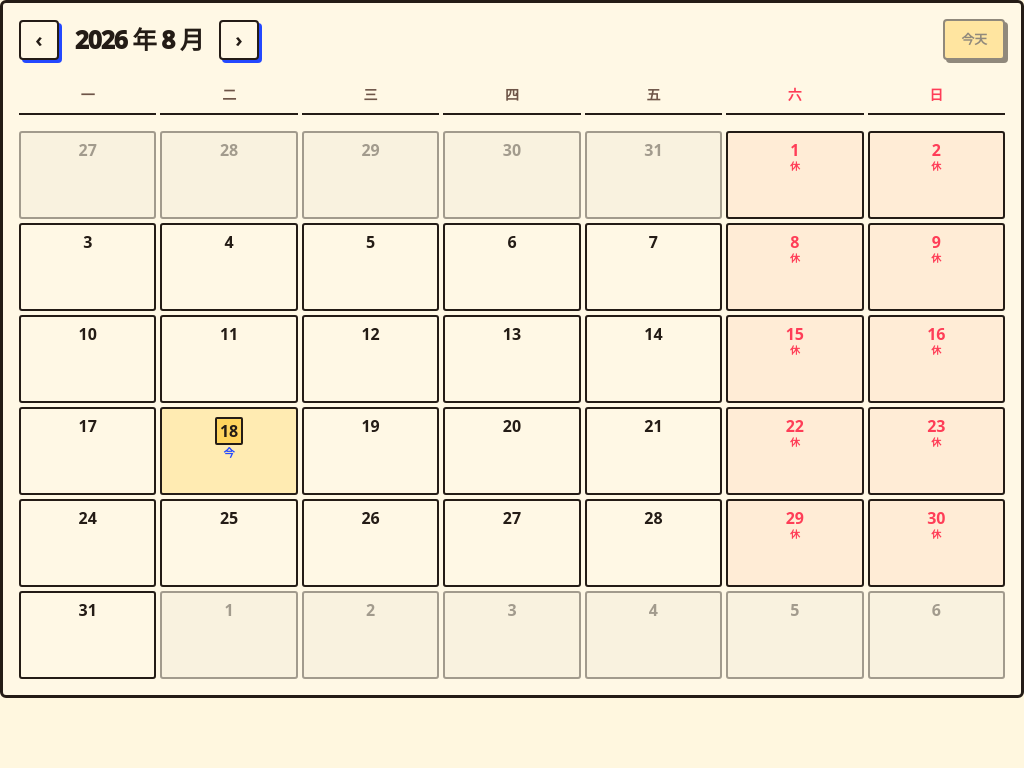
Scenario: TaskCalendar › returns to today's month
The image size is (1024, 768).
Click the button named "下一个月": (239, 40) [219,20,259,60]
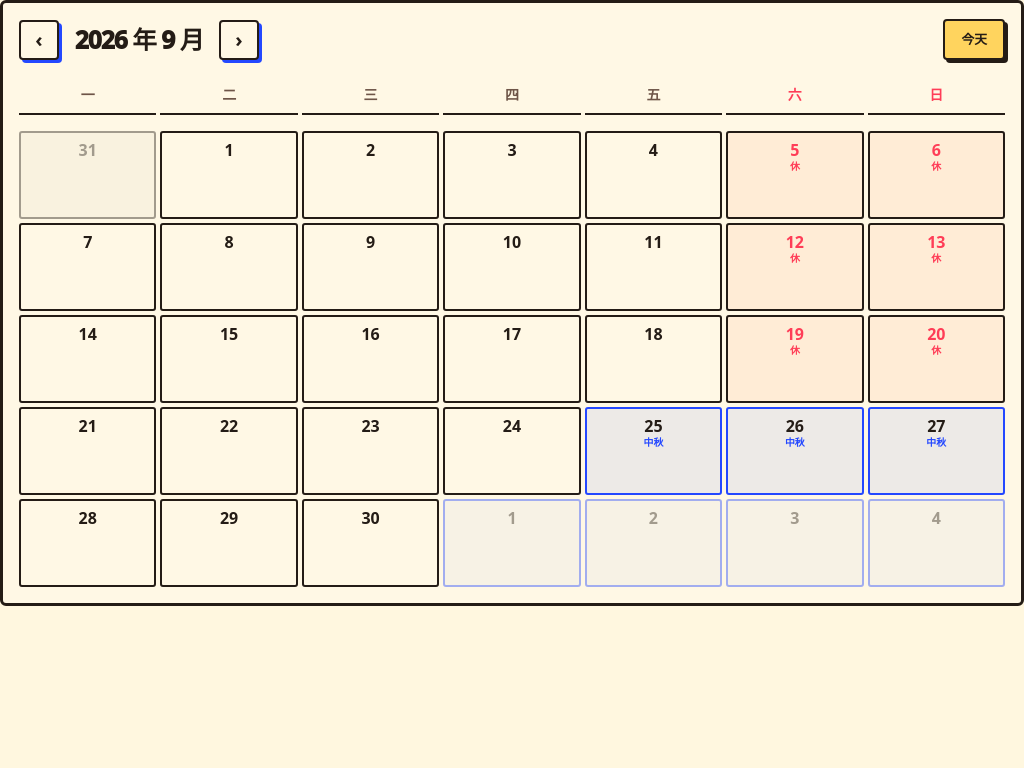
Click the button named "下一个月": (239, 40) [219,20,259,60]
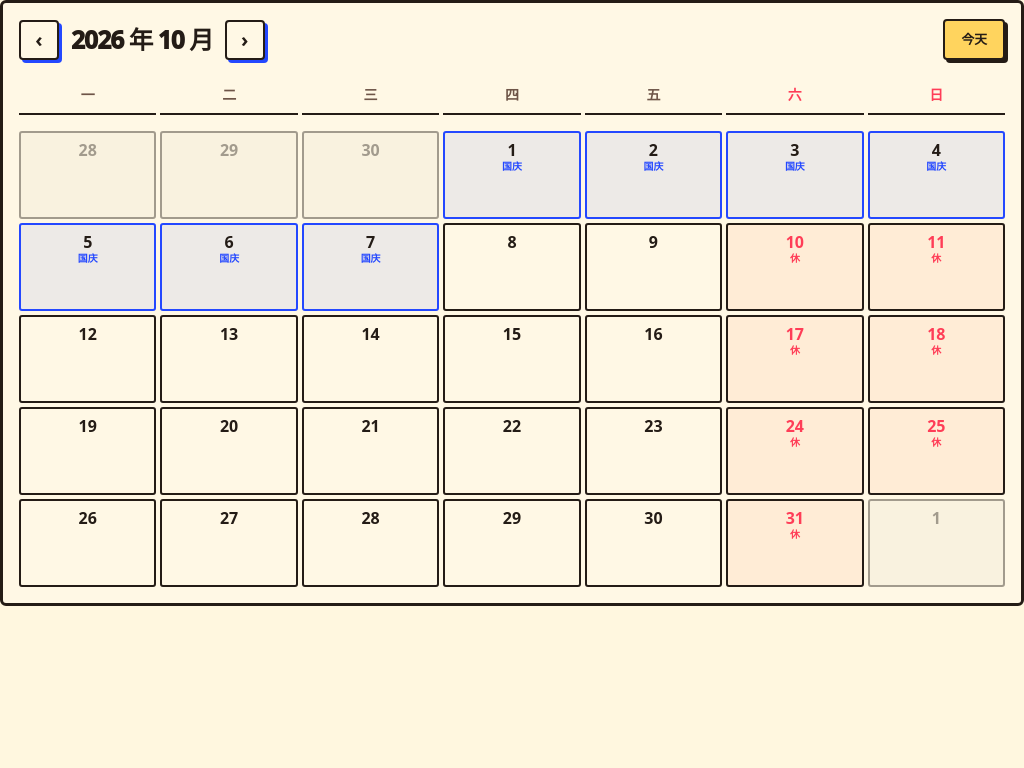
Expected: the heading "2026 年 10 月" is shown, [71,28,213,51]
Click the button with aria-label "回到今天": (974, 40) [943,19,1005,60]
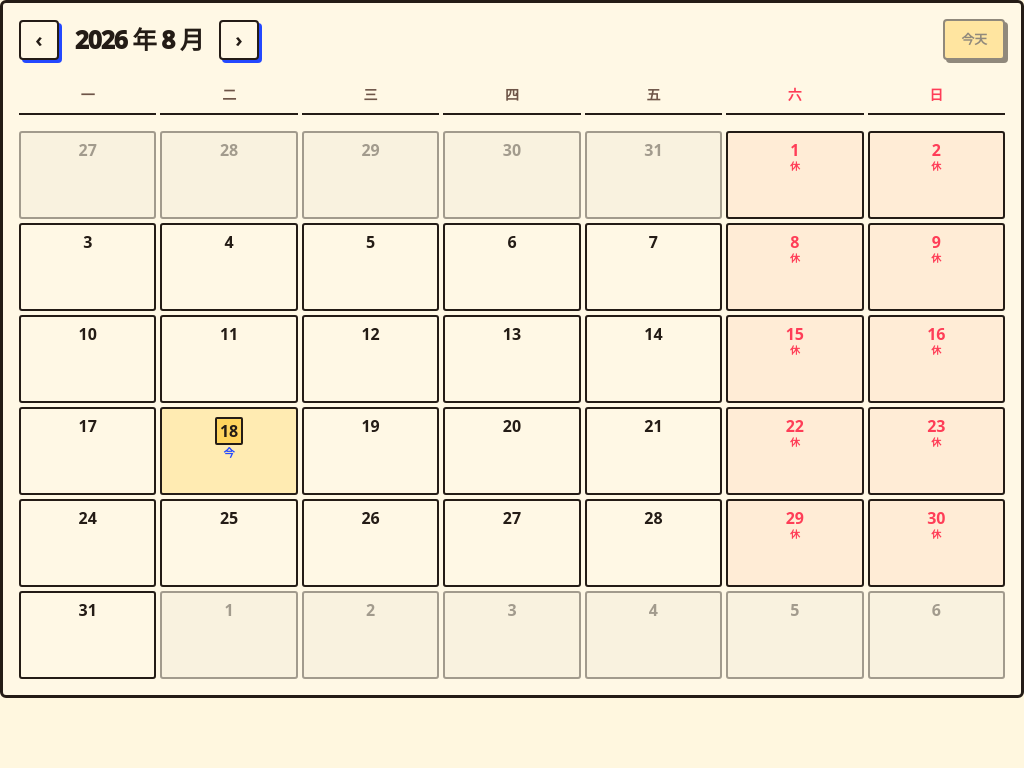
Expected: the heading "2026 年 8 月" is shown, [71,28,207,51]
